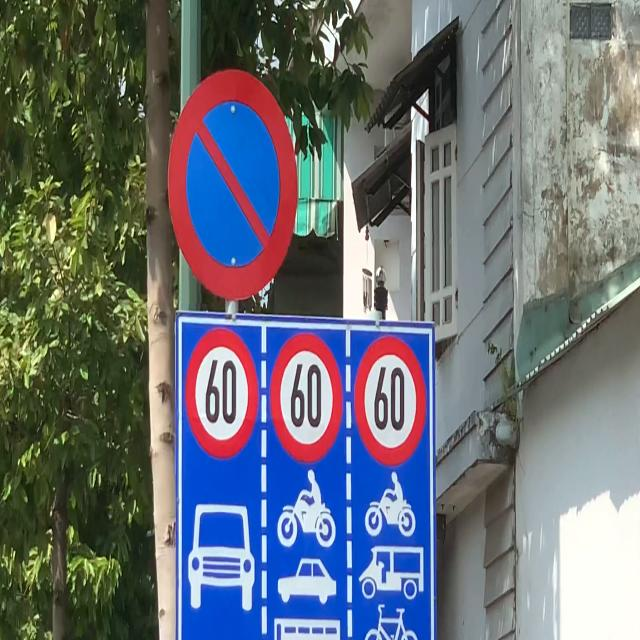P.127: (184, 326, 260, 461), (268, 330, 344, 464), (353, 333, 428, 467)
P.131a: (166, 66, 299, 302)
